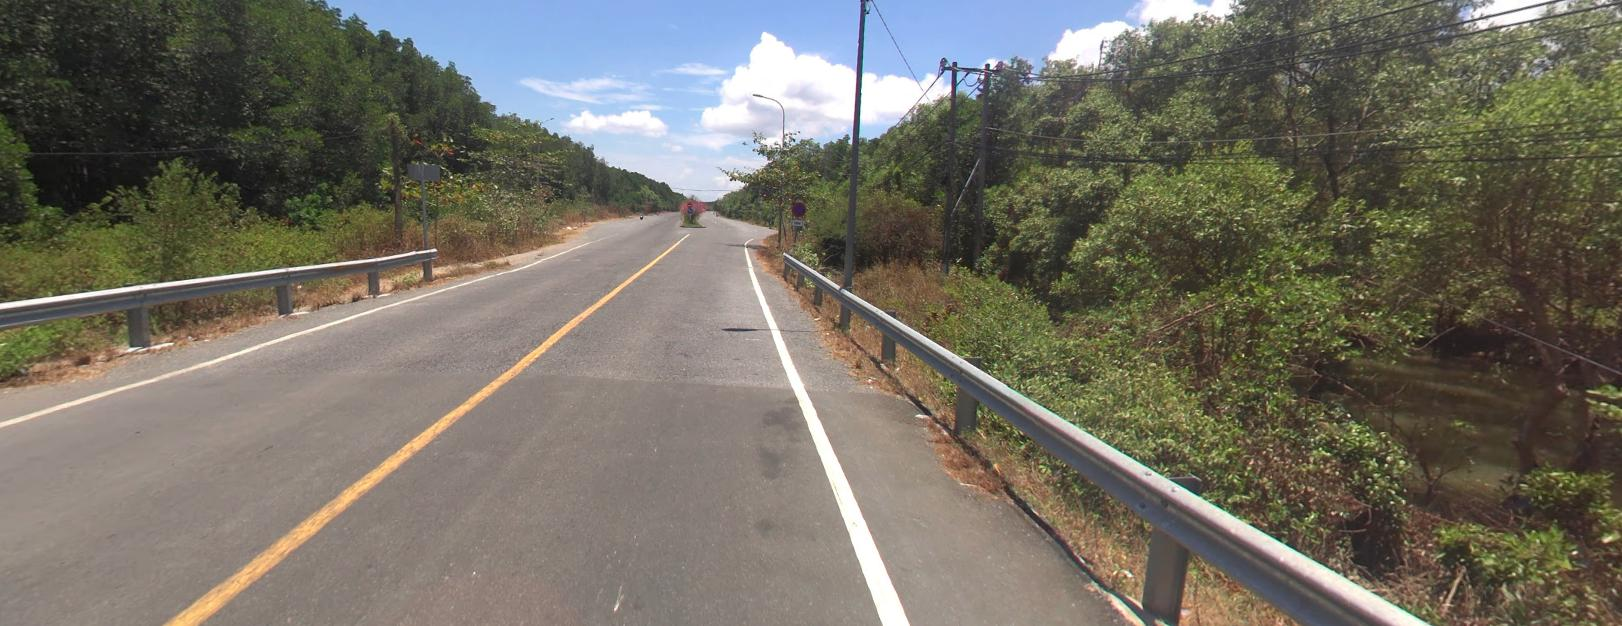Cam dung va do: (792, 200, 806, 215)
Cam nguoc chieu: (686, 201, 691, 205)
Hieu lenh: (687, 207, 691, 211)
